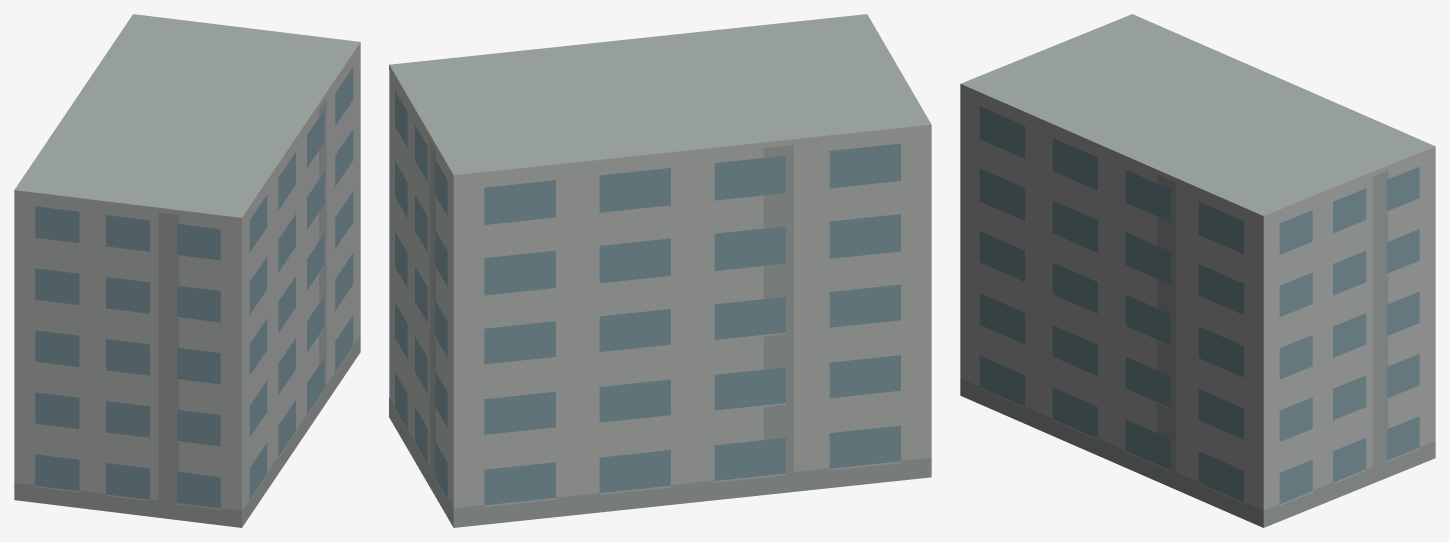
The model's file is survey-upis-32790779.glb.
3 renders of one model, left to right at view 1: azimuth 30°, elevation 25°; view 2: azimuth 150°, elevation 25°; view 3: azimuth 270°, elevation 25°, orthographic. The views are drawn at different scales.
Parts seen in each view (by area): view 1: survey-upis-32790779.tmp; view 2: survey-upis-32790779.tmp; view 3: survey-upis-32790779.tmp.
Boxes of the visible parts, x1=… form: survey-upis-32790779.tmp: x1=14, y1=14, x2=360, y2=527; survey-upis-32790779.tmp: x1=389, y1=14, x2=931, y2=527; survey-upis-32790779.tmp: x1=960, y1=14, x2=1435, y2=527.
Size of the model in its own units: 20.85 by 15 by 20.72.
